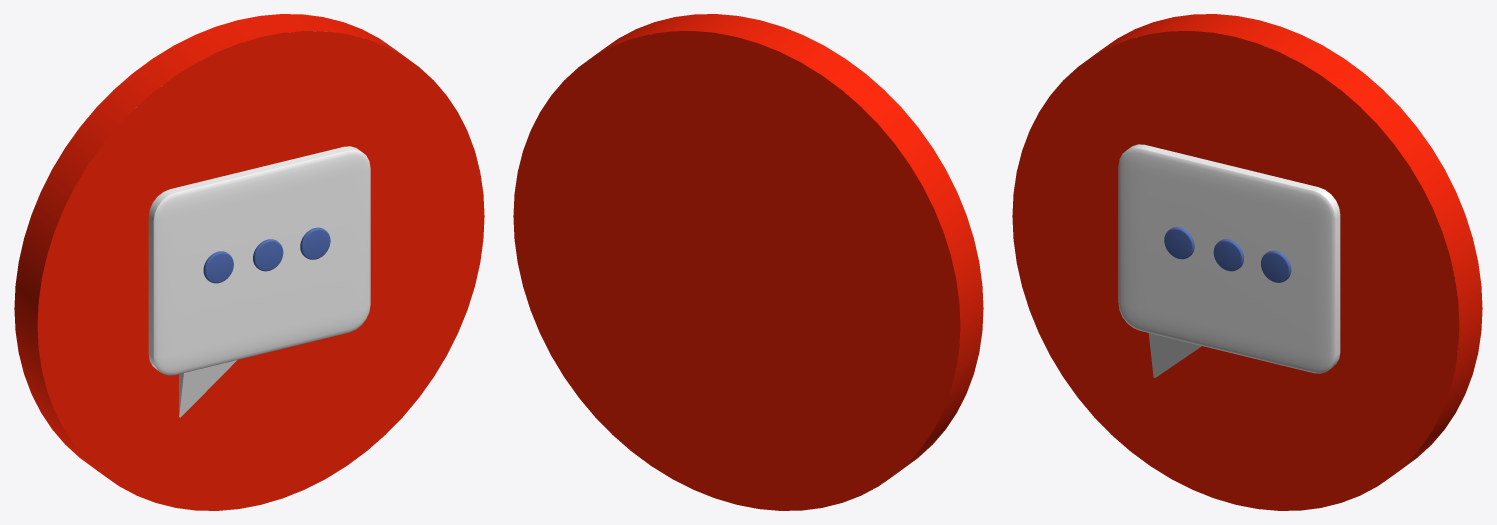
File: chat bubble icon.obj
The picture shows the model from 3 angles, left to right: view 1: azimuth 30°, elevation 25°; view 2: azimuth 150°, elevation 25°; view 3: azimuth 330°, elevation 25°; orthographic projection.
Visible parts, largest first — view 1: blank_blank_Cylinder, bubble_Cube.002, dots_Cube.003; view 2: blank_blank_Cylinder; view 3: blank_blank_Cylinder, bubble_Cube.002, dots_Cube.003.
Part boxes in pixels (left/top/right/bottom): blank_blank_Cylinder: left=14, top=14, right=484, bottom=510; bubble_Cube.002: left=148, top=146, right=370, bottom=417; dots_Cube.003: left=203, top=227, right=330, bottom=283; blank_blank_Cylinder: left=513, top=14, right=983, bottom=510; blank_blank_Cylinder: left=1012, top=14, right=1482, bottom=510; bubble_Cube.002: left=1118, top=144, right=1340, bottom=377; dots_Cube.003: left=1164, top=227, right=1291, bottom=282.
Size of the model in its own units: 4.16 by 4.16 by 0.505.
